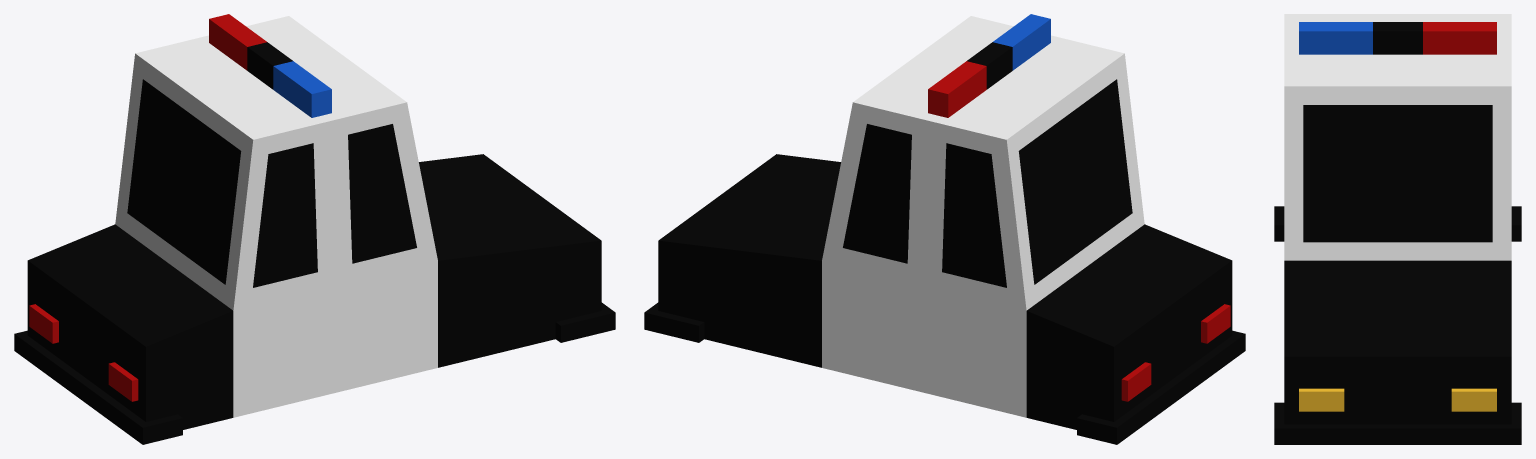
File: CityCar_Police_01.fbx
3 views of the same model, side by side, from view 1: azimuth 30°, elevation 25°; view 2: azimuth 150°, elevation 25°; view 3: azimuth 270°, elevation 25° (orthographic). The views are drawn at different scales.
Visible parts, largest first — view 1: CityCar_Police_01; view 2: CityCar_Police_01; view 3: CityCar_Police_01.
Boxes of the visible parts, bbox=[...] form: CityCar_Police_01: bbox=[14, 14, 615, 444]; CityCar_Police_01: bbox=[644, 14, 1245, 444]; CityCar_Police_01: bbox=[1274, 14, 1521, 444].
Bounding box in the file's own units: 0.4902 × 0.2943 × 0.2307.
